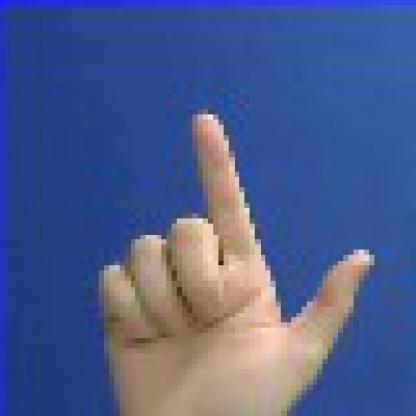seven: (68, 99, 390, 411)
